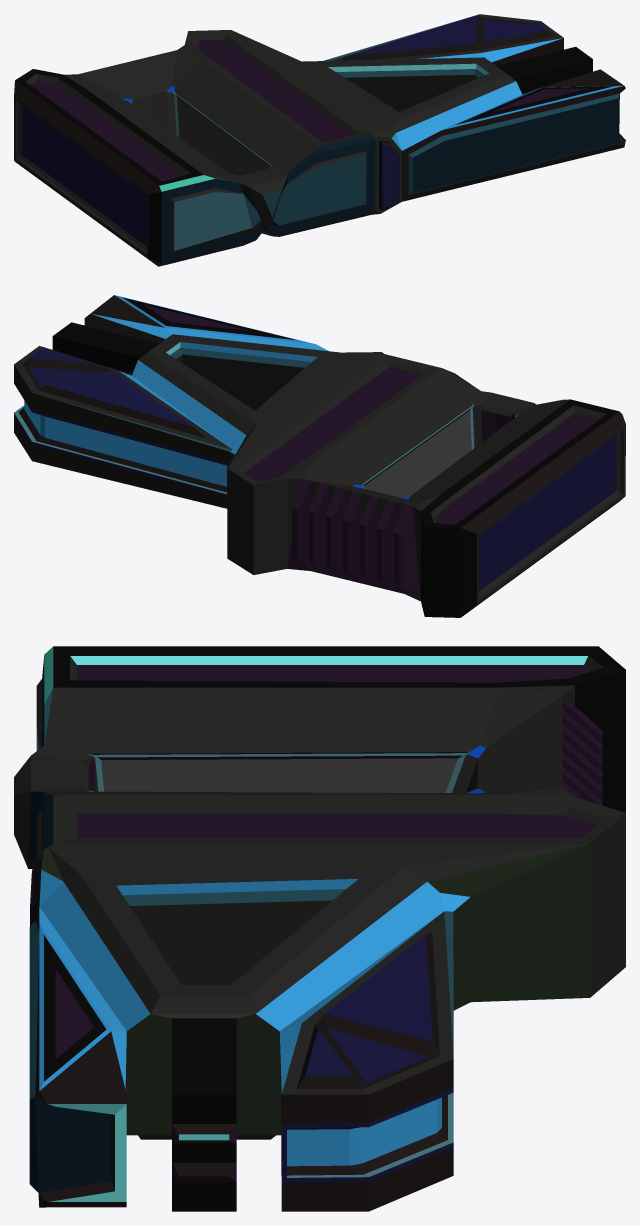
Rendered from key.glb.
The picture shows the model from 3 angles, top to bottom: view 1: azimuth 30°, elevation 25°; view 2: azimuth 150°, elevation 25°; view 3: azimuth 270°, elevation 25°; orthographic projection. The views are drawn at different scales.
Visible parts, largest first — view 1: Cube; view 2: Cube; view 3: Cube.
Part boxes in pixels (x1=…): Cube: x1=14, y1=14, x2=625, y2=266; Cube: x1=14, y1=295, x2=625, y2=617; Cube: x1=14, y1=646, x2=625, y2=1211.
Size of the model in its own units: 7.25 by 1.18 by 4.26.
Materials: 1 (1 with a texture image).
